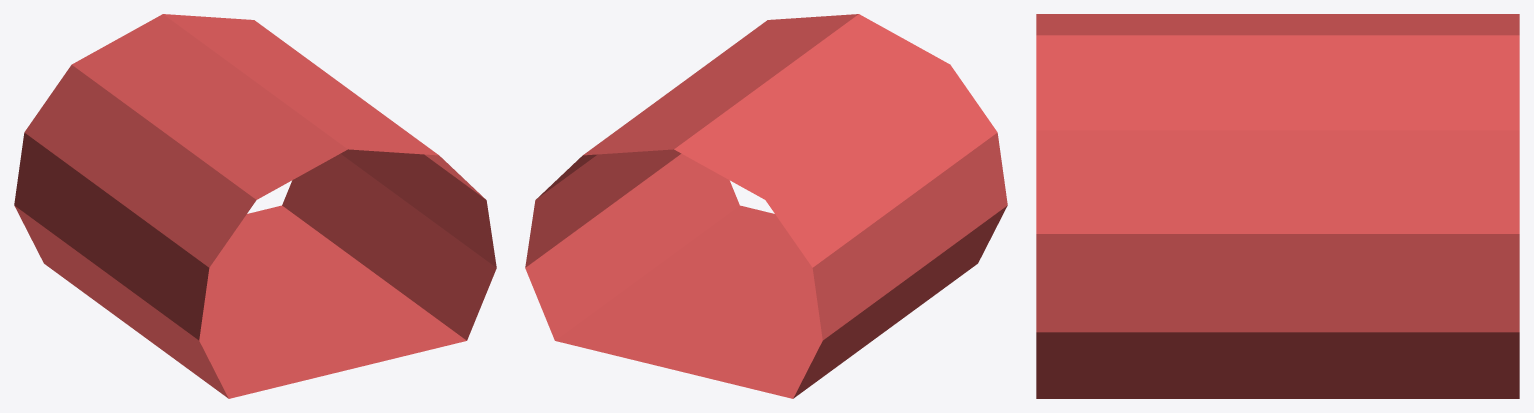
File: mesh_corridor_straight_COLLISION.fbx
3 views of the same model, side by side, from view 1: azimuth 30°, elevation 25°; view 2: azimuth 150°, elevation 25°; view 3: azimuth 270°, elevation 25° (orthographic). The views are drawn at different scales.
Parts seen in each view (by area): view 1: mesh_corridor_straight_COLLISION; view 2: mesh_corridor_straight_COLLISION; view 3: mesh_corridor_straight_COLLISION.
Boxes of the visible parts, left/top/right/bottom form: mesh_corridor_straight_COLLISION: left=14, top=14, right=496, bottom=398; mesh_corridor_straight_COLLISION: left=525, top=14, right=1007, bottom=398; mesh_corridor_straight_COLLISION: left=1036, top=14, right=1519, bottom=398.
Size of the model in its own units: 13 by 9.2 by 14.
